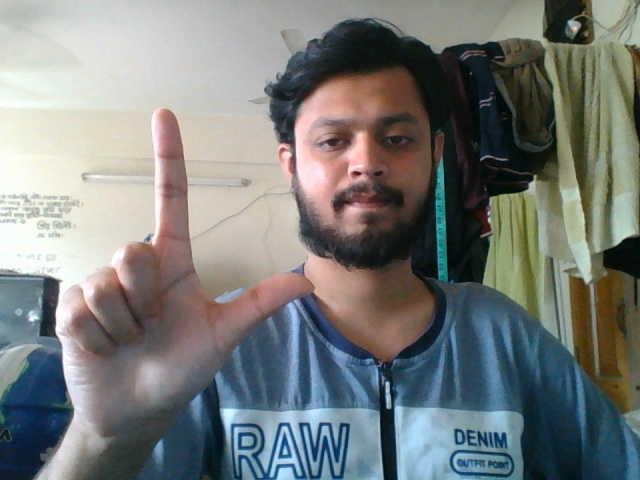la: (55, 105, 317, 442)
